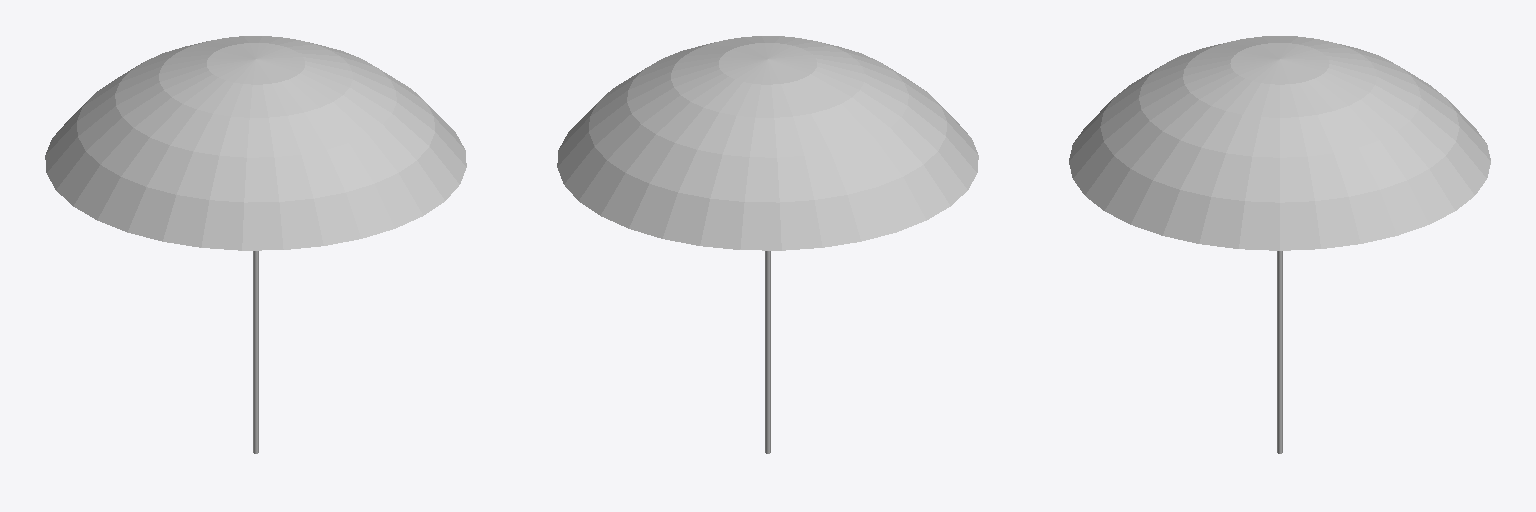
Rendered from omb..obj.
The picture shows the model from 3 angles: view 1: azimuth 30°, elevation 25°; view 2: azimuth 150°, elevation 25°; view 3: azimuth 270°, elevation 25°; orthographic projection.
Parts seen in each view (by area): view 1: Sphere_Sphere.001; view 2: Sphere_Sphere.001; view 3: Sphere_Sphere.001.
Part boxes in pixels (left/top/right/bottom): Sphere_Sphere.001: left=45, top=36, right=466, bottom=453; Sphere_Sphere.001: left=557, top=36, right=978, bottom=453; Sphere_Sphere.001: left=1069, top=36, right=1490, bottom=453.
Bounding box in the file's own units: 3.79 × 3.89 × 3.79.